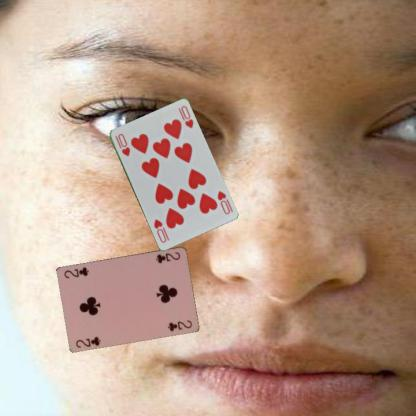10h: (112, 130, 131, 158), (214, 188, 231, 215)
2c: (153, 249, 182, 264), (73, 334, 102, 349)
